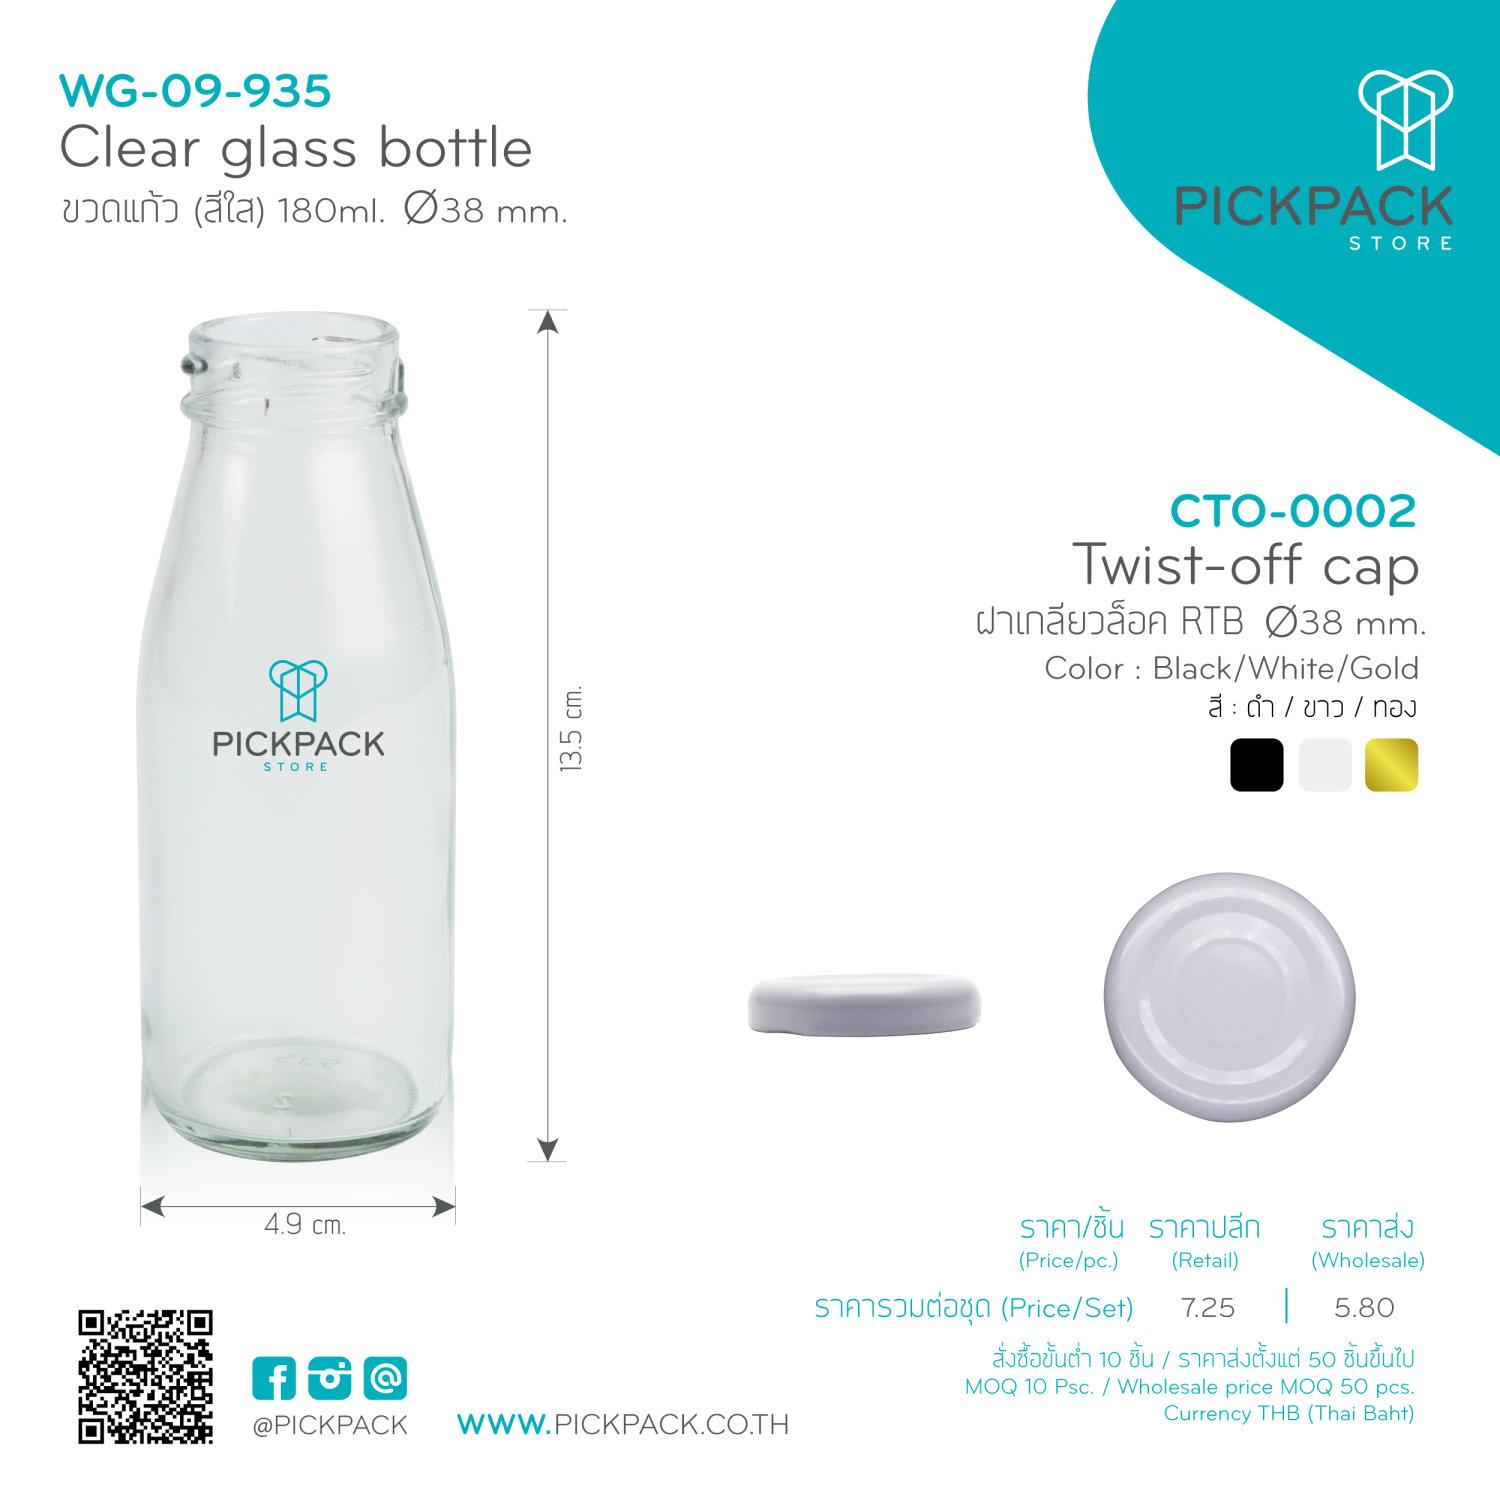glass_bottle: (133, 305, 462, 1173)
